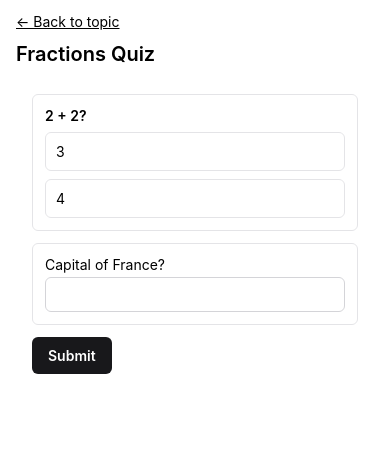
it: shows a server validation error instead of a score
Expected: the text "Fractions Quiz" is shown, [16,42,155,66]
Click the text "Submit".
click(72, 356)  # box [48,347,96,364]
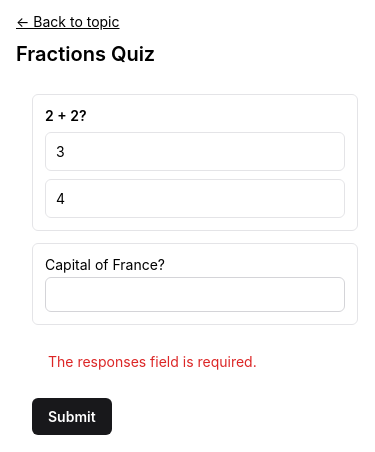
Expected: the text "The responses field is required." is shown, [48,353,257,370]
